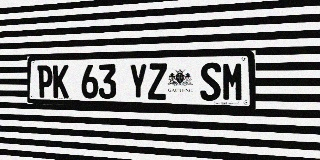3: (99, 64, 116, 99)
6: (81, 64, 98, 99)
K: (53, 65, 69, 98)
M: (222, 62, 244, 101)
P: (37, 65, 52, 98)
S: (200, 62, 221, 101)
Y: (129, 64, 147, 100)
Z: (148, 63, 167, 100)
